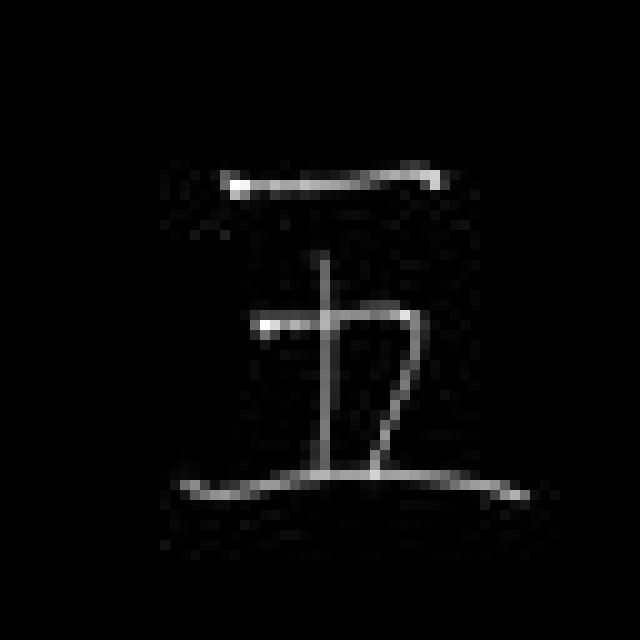5 -five-: (170, 153, 540, 518)
